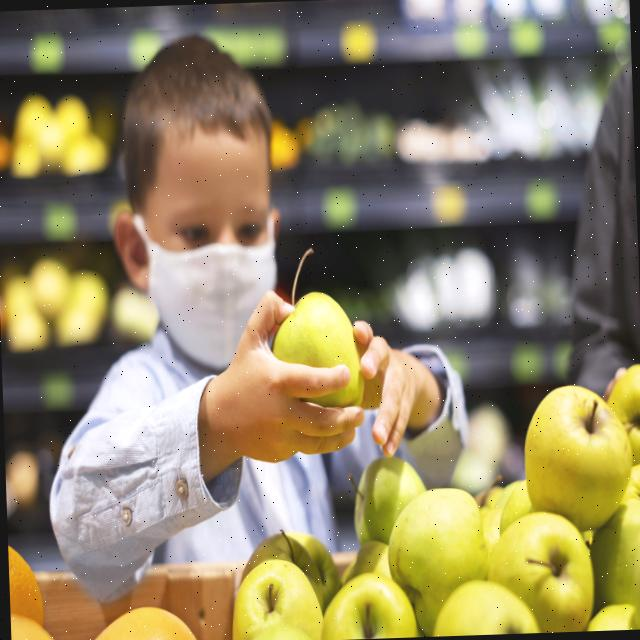apple: (229, 228, 389, 468), (510, 371, 638, 544), (386, 472, 496, 635), (482, 502, 594, 634), (581, 442, 640, 631), (226, 514, 342, 603), (225, 549, 325, 640), (423, 564, 549, 636), (342, 442, 432, 542), (310, 561, 423, 640), (596, 356, 640, 494), (327, 526, 406, 592)
